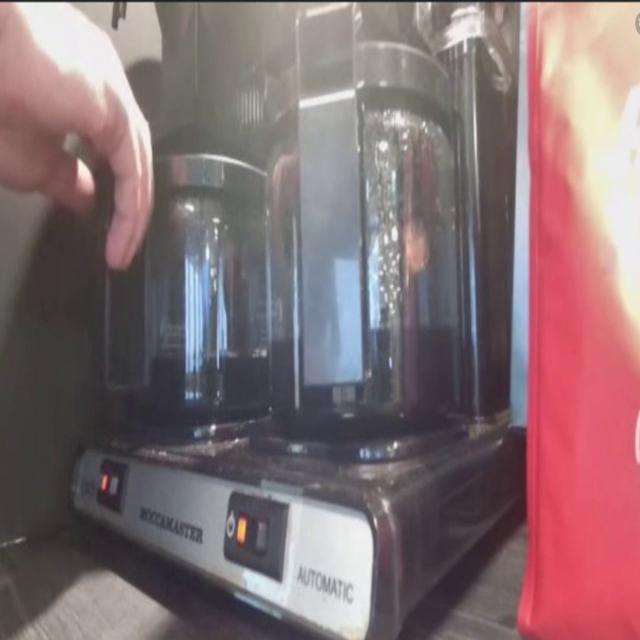coffee: (252, 42, 470, 444), (86, 135, 277, 442)
